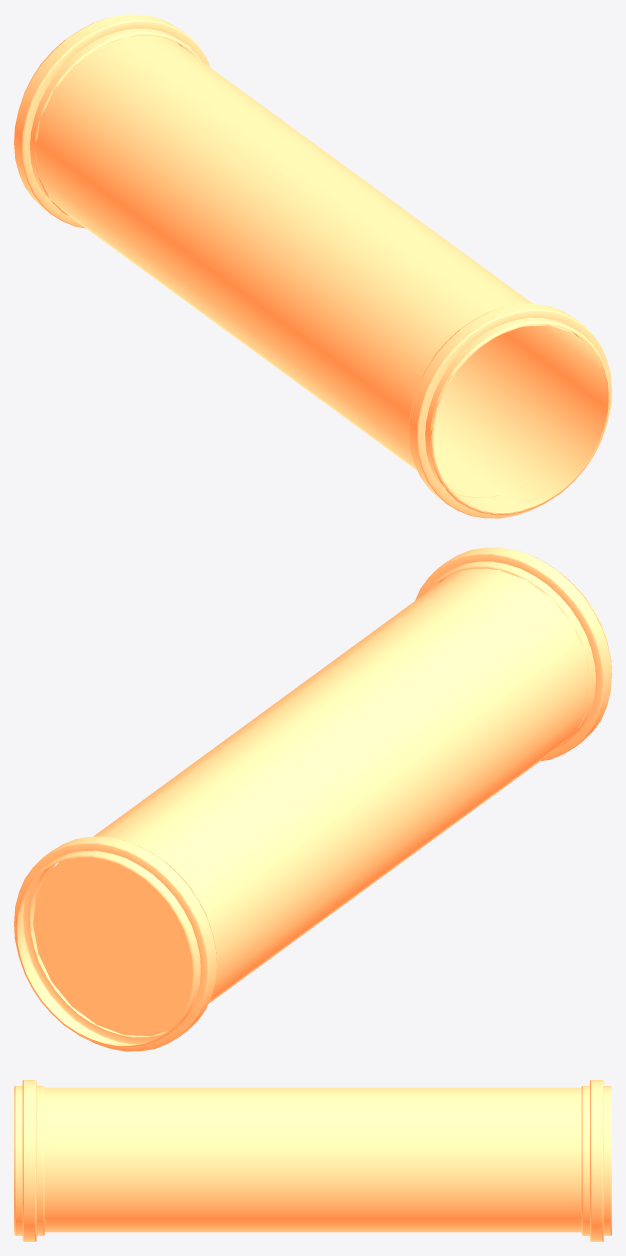
Rendered from SM_Pipe4.fbx.
The picture shows the model from 3 angles, top to bottom: view 1: azimuth 30°, elevation 25°; view 2: azimuth 150°, elevation 25°; view 3: azimuth 270°, elevation 25°; orthographic projection. The views are drawn at different scales.
Parts seen in each view (by area): view 1: SM_Pipe4_LOD0; view 2: SM_Pipe4_LOD0; view 3: SM_Pipe4_LOD0.
Boxes of the visible parts, left/top/right/bottom form: SM_Pipe4_LOD0: left=14, top=14, right=611, bottom=518; SM_Pipe4_LOD0: left=14, top=547, right=611, bottom=1051; SM_Pipe4_LOD0: left=14, top=1080, right=611, bottom=1241.
Size of the model in its own units: 139 by 515 by 139.
